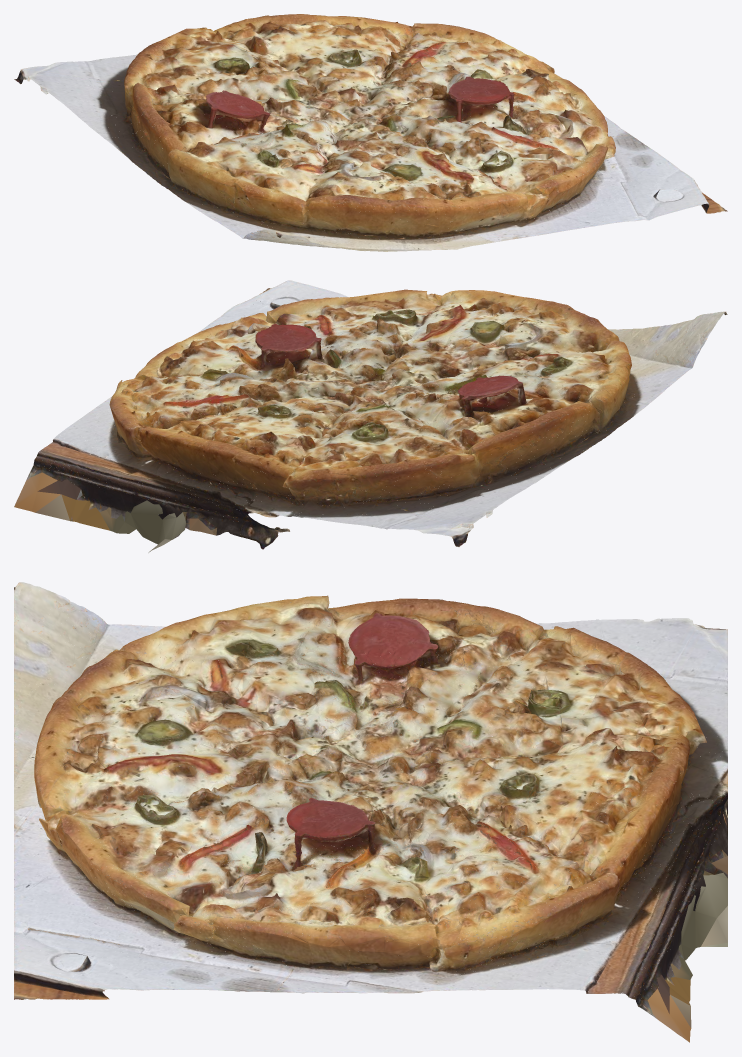
File: mcart_small-v1.glb
3 views of the same model, one above another, from view 1: azimuth 30°, elevation 25°; view 2: azimuth 150°, elevation 25°; view 3: azimuth 270°, elevation 25° (orthographic). The views are drawn at different scales.
Visible parts, largest first — view 1: Object_8, Object_9, Object_10, Object_2, Object_7, Object_6, Object_3, Object_5, Object_4, Object_11, Object_12; view 2: Object_2, Object_4, Object_3, Object_5, Object_8, Object_6, Object_7, Object_10, Object_9, Object_11, Object_12; view 3: Object_5, Object_2, Object_9, Object_10, Object_6, Object_4, Object_7, Object_3, Object_11, Object_8, Object_12.
Part boxes in pixels (x1,y1,x2,y2): Object_8: [101, 92, 460, 249]; Object_9: [113, 69, 654, 251]; Object_10: [195, 69, 727, 248]; Object_2: [79, 14, 552, 168]; Object_7: [149, 78, 656, 220]; Object_6: [238, 99, 603, 203]; Object_3: [91, 14, 503, 102]; Object_5: [274, 19, 708, 220]; Object_4: [14, 16, 516, 136]; Object_11: [186, 50, 581, 137]; Object_12: [359, 51, 560, 123]; Object_2: [57, 376, 591, 515]; Object_4: [33, 386, 542, 546]; Object_3: [110, 377, 512, 528]; Object_5: [14, 280, 627, 552]; Object_8: [447, 321, 703, 474]; Object_6: [298, 290, 630, 398]; Object_7: [190, 290, 599, 439]; Object_10: [242, 280, 727, 424]; Object_9: [96, 290, 726, 471]; Object_11: [127, 325, 508, 432]; Object_12: [127, 326, 357, 404]; Object_5: [14, 633, 727, 1042]; Object_2: [359, 606, 689, 990]; Object_9: [14, 582, 493, 992]; Object_10: [14, 582, 493, 999]; Object_6: [73, 623, 408, 893]; Object_4: [464, 618, 727, 1006]; Object_7: [44, 602, 452, 965]; Object_3: [408, 609, 727, 919]; Object_11: [293, 625, 493, 926]; Object_8: [30, 595, 493, 747]; Object_12: [293, 786, 493, 960].
Bounding box in the file's own units: 0.3192 × 0.0885 × 0.3236.
1 material, 1 textured.
